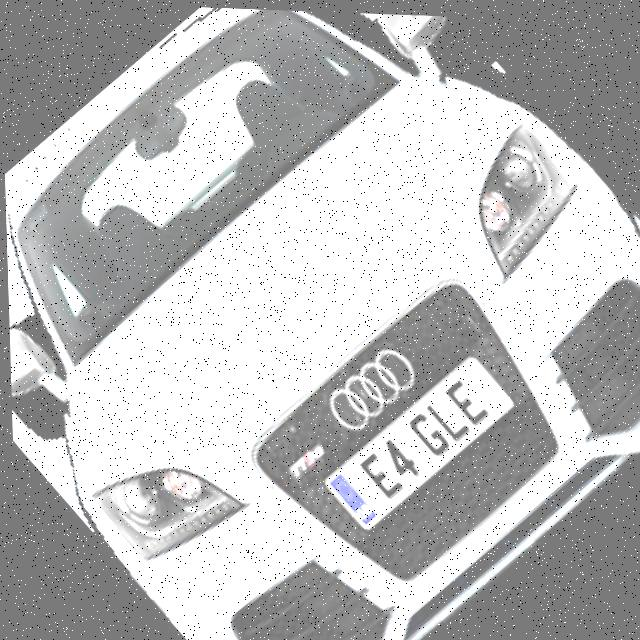license_plate: (312, 341, 513, 530)
